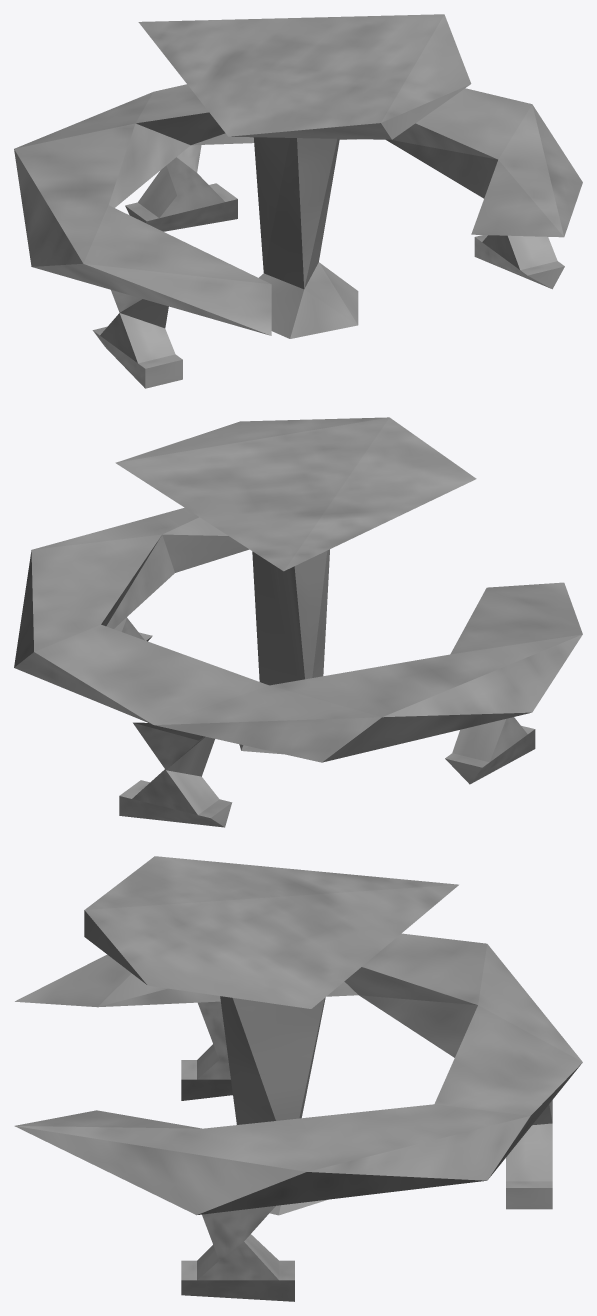
File: MesaPedraLOD2.fbx
3 views of the same model, one above another, from view 1: azimuth 30°, elevation 25°; view 2: azimuth 150°, elevation 25°; view 3: azimuth 270°, elevation 25° (orthographic). The views are drawn at different scales.
Visible parts, largest first — view 1: MesaDeConcretoLOD2; view 2: MesaDeConcretoLOD2; view 3: MesaDeConcretoLOD2.
Part boxes in pixels (x1,y1,x2,y2): MesaDeConcretoLOD2: [14, 14, 582, 388]; MesaDeConcretoLOD2: [14, 417, 582, 827]; MesaDeConcretoLOD2: [14, 856, 582, 1301].
Bounding box in the file's own units: 204 × 98.09 × 186.
